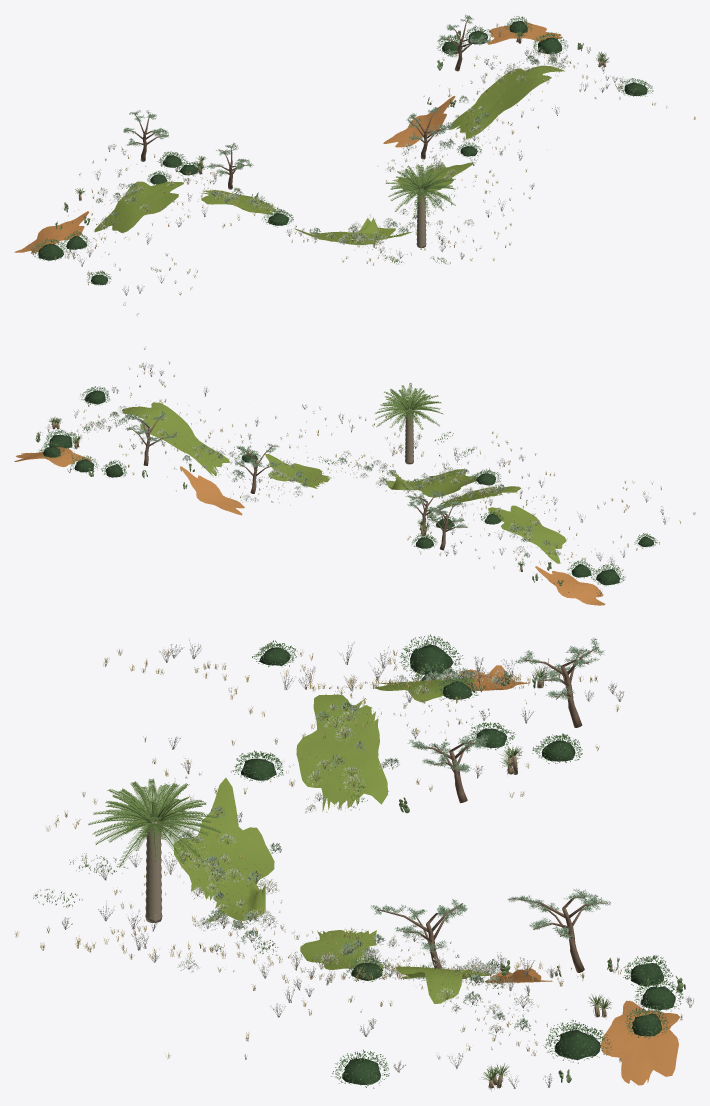
The model's file is flora.glb.
3 views of the same model, one above another, from view 1: azimuth 30°, elevation 25°; view 2: azimuth 150°, elevation 25°; view 3: azimuth 270°, elevation 25° (orthographic). The views are drawn at different scales.
Visible parts, largest first — view 1: core_flora_iceplant, core_flora_red_iceplant, core_flora_lemonade_berry_shade, core_flora_lemonade_berry, core_flora_sage, core_flora_palm_fronds, core_flora_torrey_needles, core_flora_torrey_bark, core_flora_stems, core_flora_wild_oats, core_flora_dark_sage, core_flora_sagebrush (+2 smaller); view 2: core_flora_iceplant, core_flora_red_iceplant, core_flora_lemonade_berry_shade, core_flora_lemonade_berry, core_flora_sage, core_flora_palm_fronds, core_flora_torrey_needles, core_flora_torrey_bark, core_flora_stems, core_flora_dark_sage, core_flora_wild_oats, core_flora_dry_grass (+2 smaller); view 3: core_flora_iceplant, core_flora_lemonade_berry_shade, core_flora_lemonade_berry, core_flora_palm_fronds, core_flora_red_iceplant, core_flora_sage, core_flora_torrey_needles, core_flora_stems, core_flora_wild_oats, core_flora_torrey_bark, core_flora_dark_sage, core_flora_sagebrush (+4 smaller).
Boxes of the visible parts, x1,y1,x2,y2 form: core_flora_iceplant: (94, 65, 564, 244); core_flora_red_iceplant: (14, 22, 562, 253); core_flora_lemonade_berry_shade: (38, 21, 647, 284); core_flora_lemonade_berry: (32, 16, 653, 285); core_flora_sage: (97, 48, 568, 245); core_flora_palm_fronds: (385, 164, 455, 216); core_flora_torrey_needles: (123, 14, 491, 176); core_flora_torrey_bark: (124, 17, 489, 189); core_flora_stems: (28, 28, 643, 295); core_flora_wild_oats: (55, 23, 695, 316); core_flora_dark_sage: (95, 52, 557, 244); core_flora_sagebrush: (27, 25, 636, 290); core_flora_iceplant: (122, 401, 566, 563); core_flora_red_iceplant: (14, 447, 604, 605); core_flora_lemonade_berry_shade: (43, 390, 653, 585); core_flora_lemonade_berry: (39, 386, 657, 586); core_flora_sage: (87, 406, 561, 557); core_flora_palm_fronds: (375, 383, 443, 431); core_flora_torrey_needles: (125, 410, 467, 528); core_flora_torrey_bark: (128, 414, 467, 550); core_flora_stems: (47, 363, 665, 596); core_flora_dark_sage: (82, 411, 550, 557); core_flora_wild_oats: (38, 347, 695, 571); core_flora_dry_grass: (79, 387, 599, 592); core_flora_iceplant: (173, 677, 489, 1003); core_flora_lemonade_berry_shade: (241, 644, 675, 1084); core_flora_lemonade_berry: (230, 634, 683, 1088); core_flora_palm_fronds: (88, 778, 220, 867); core_flora_red_iceplant: (459, 665, 679, 1085); core_flora_sage: (176, 667, 534, 1035); core_flora_torrey_needles: (370, 637, 610, 953); core_flora_stems: (63, 640, 693, 1088); core_flora_wild_oats: (15, 642, 682, 1062); core_flora_torrey_bark: (374, 641, 607, 972); core_flora_dark_sage: (179, 667, 531, 1031); core_flora_sagebrush: (62, 638, 694, 1084).
Size of the model in its own units: 61.75 by 10.35 by 34.95.
